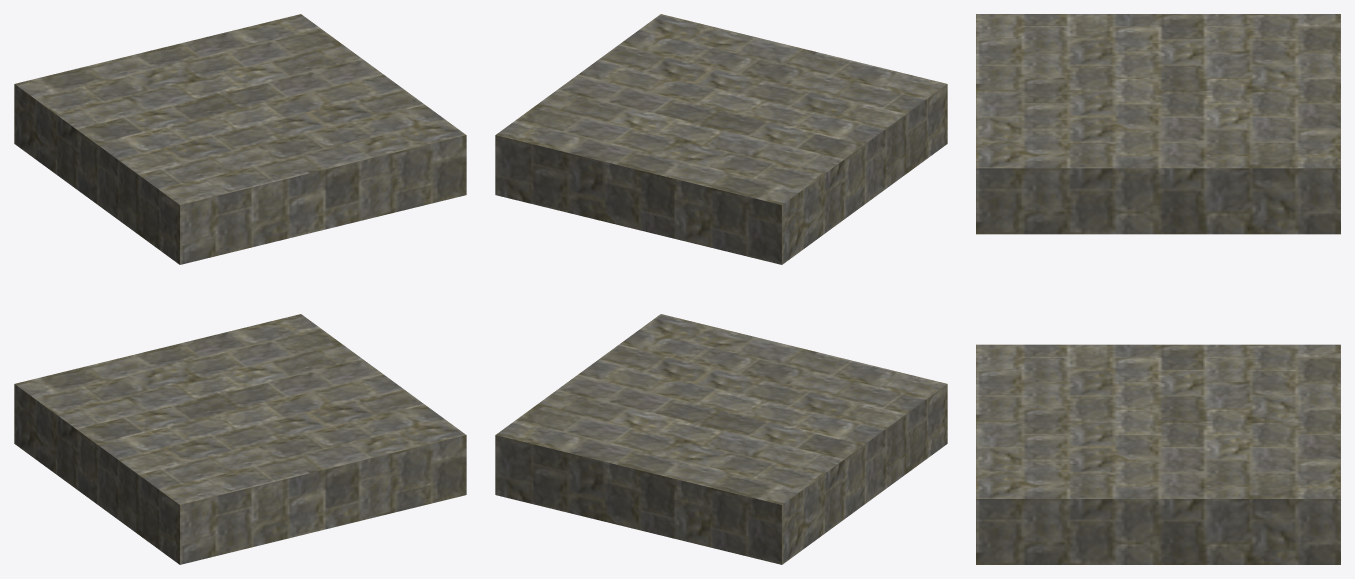
File: hallway_4way.glb
3 views of the same model, side by side, from view 1: azimuth 30°, elevation 25°; view 2: azimuth 150°, elevation 25°; view 3: azimuth 270°, elevation 25° (orthographic). The views are drawn at different scales.
Visible parts, largest first — view 1: hallway_4way; view 2: hallway_4way; view 3: hallway_4way.
Boxes of the visible parts, x1=… form: hallway_4way: x1=14, y1=14, x2=466, y2=564; hallway_4way: x1=495, y1=14, x2=947, y2=564; hallway_4way: x1=976, y1=14, x2=1340, y2=564.
Size of the model in its own units: 2 by 2.4 by 2.
2 materials, 2 textured.
